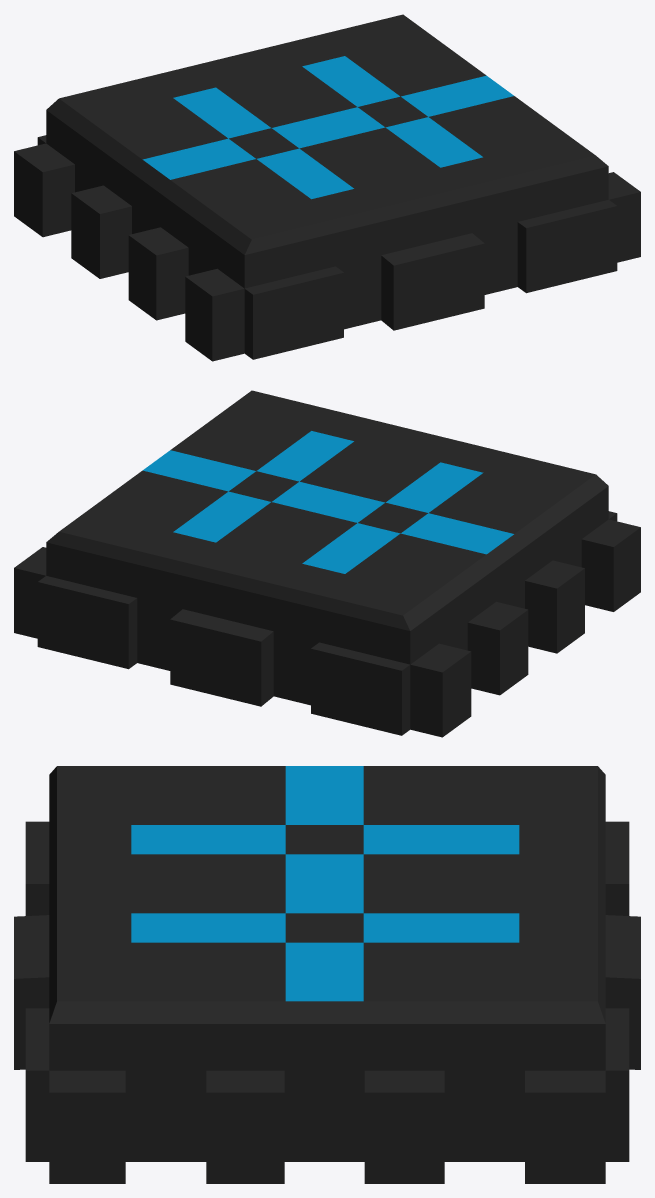
File: FlatBuildNeon02.fbx
The picture shows the model from 3 angles, top to bottom: view 1: azimuth 30°, elevation 25°; view 2: azimuth 150°, elevation 25°; view 3: azimuth 270°, elevation 25°; orthographic projection. The views are drawn at different scales.
Visible parts, largest first — view 1: FlatBuildNeon02; view 2: FlatBuildNeon02; view 3: FlatBuildNeon02.
Part boxes in pixels (bbox=[...]): FlatBuildNeon02: bbox=[14, 14, 640, 361]; FlatBuildNeon02: bbox=[14, 390, 640, 737]; FlatBuildNeon02: bbox=[14, 766, 640, 1183].
Bounding box in the file's own units: 2.35 × 0.5812 × 2.13.
